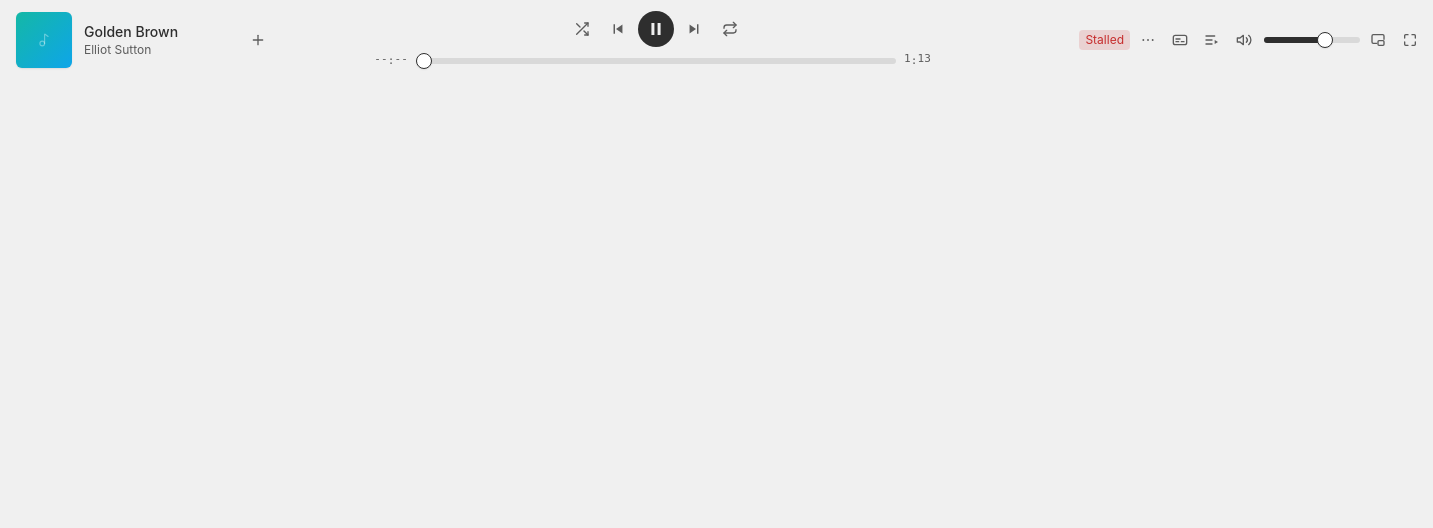
Scenario: the overflow menu › opens the sleep-timer branch
Expected: the text "Golden Brown" is shown, [84,23,178,40]
Click the button named "More player controls" at (1148, 40), box [1134,26,1162,54]
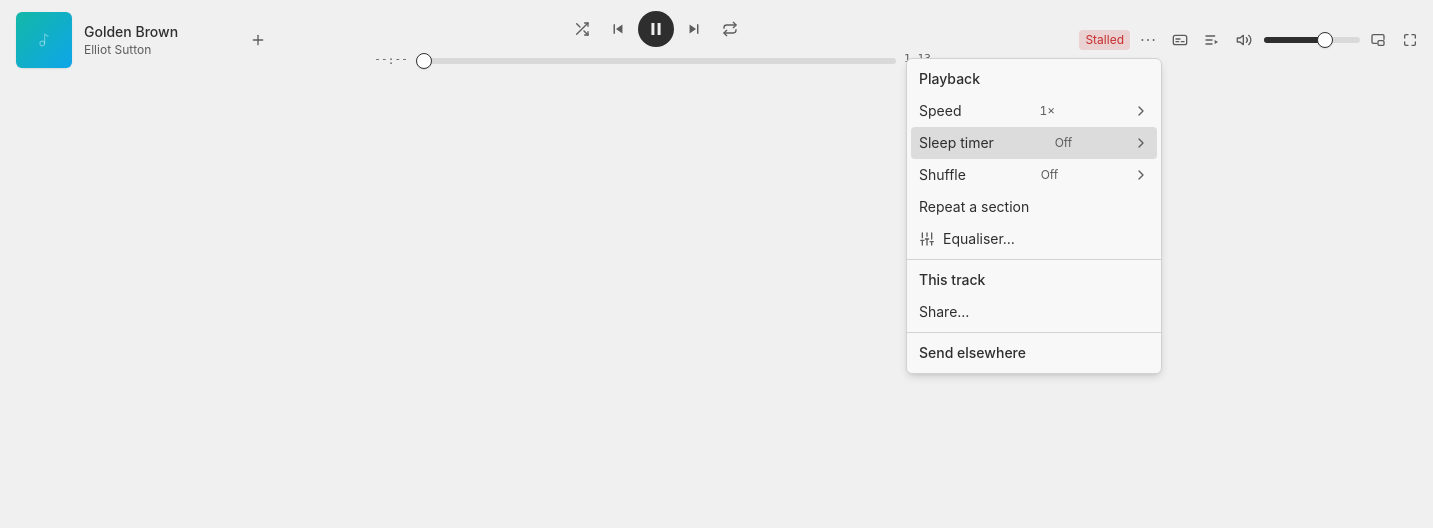
Press Arrowright
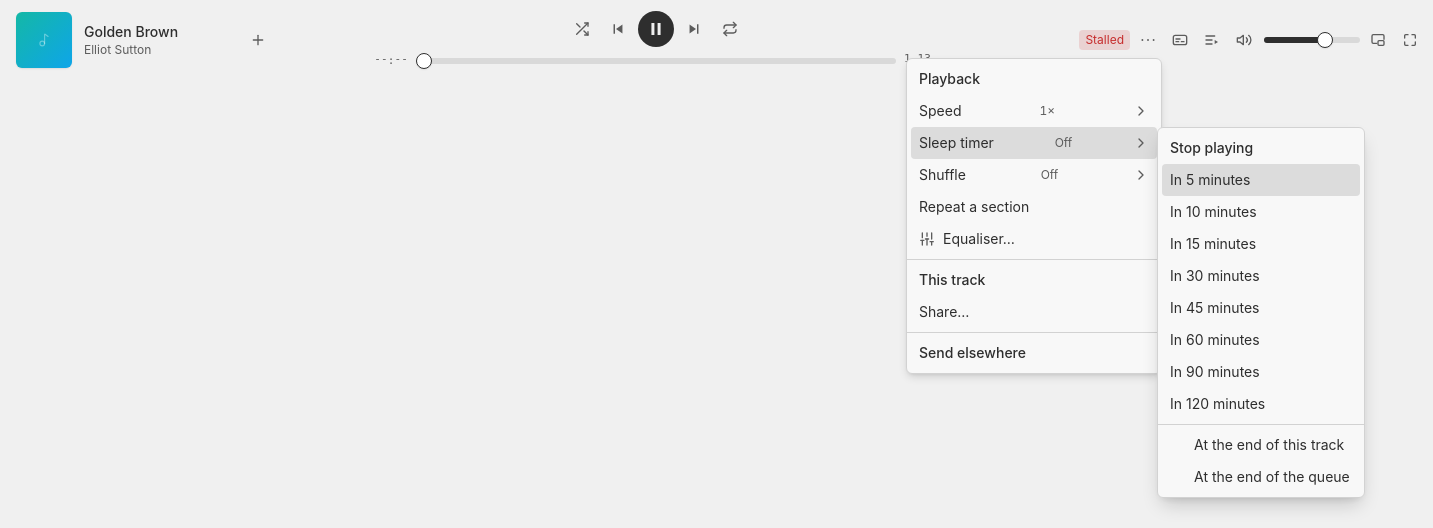
Expected: the menu item "In 30 minutes" is shown, [1170,267,1260,284]
